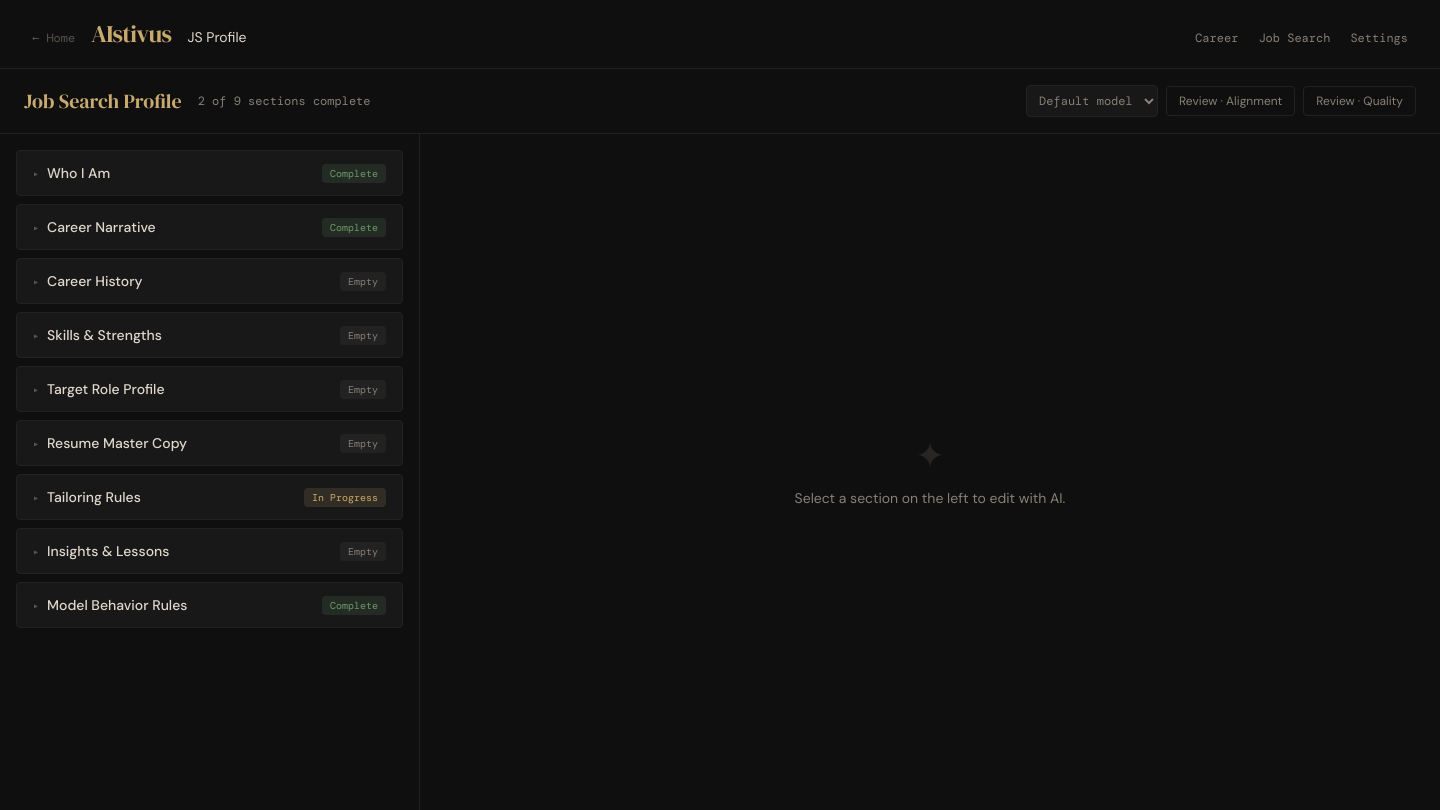
Test case: JobSearchProfile › shows "Synthesize from Logs" button for insights_lessons section
This screenshot has width=1440, height=810.
Check: the text "Insights & Lessons" is shown, box [47, 541, 169, 561]
Step 1. Click the text "Insights & Lessons" → (101, 551), box [33, 541, 169, 561]
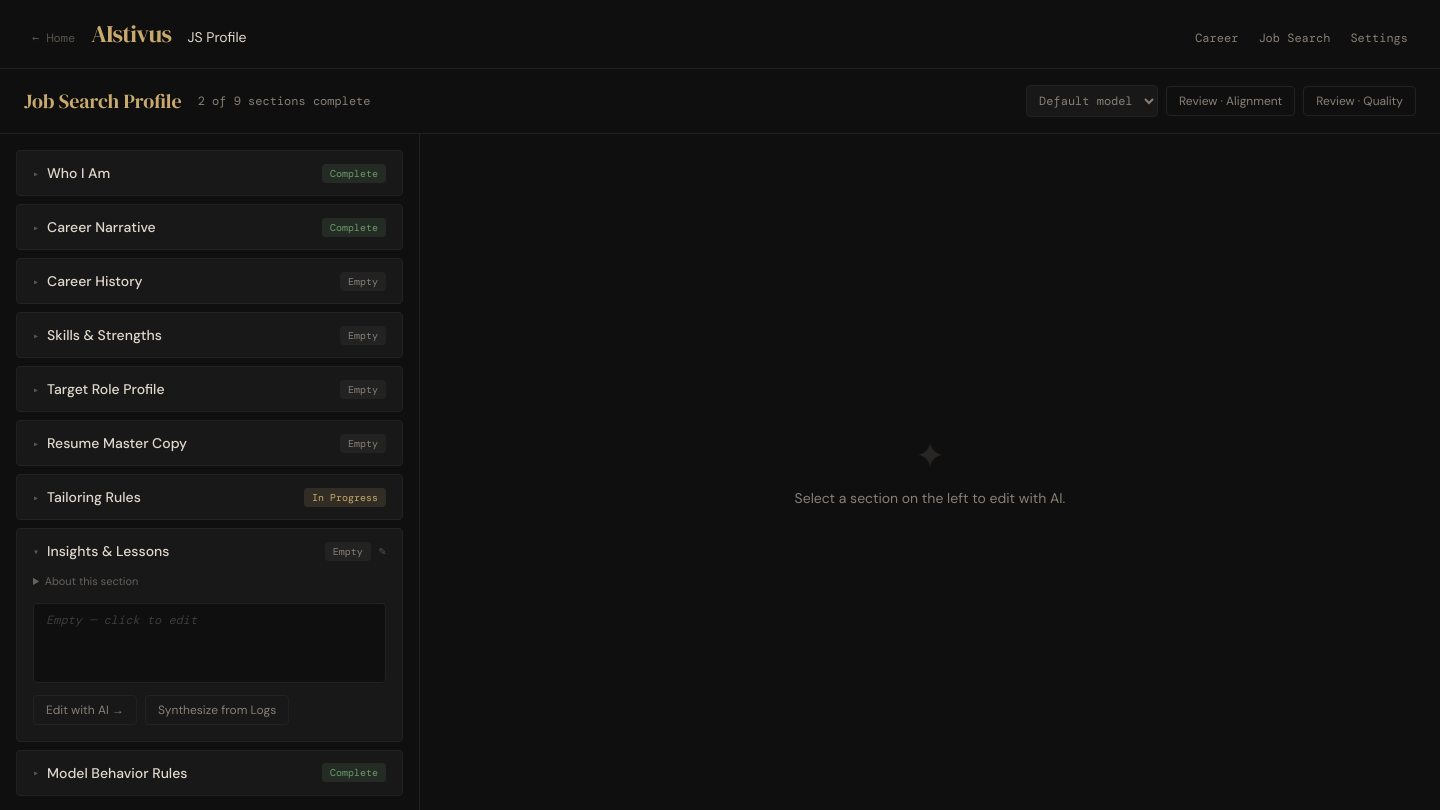
Check: the button "Synthesize from Logs" is shown, box [145, 695, 289, 725]
